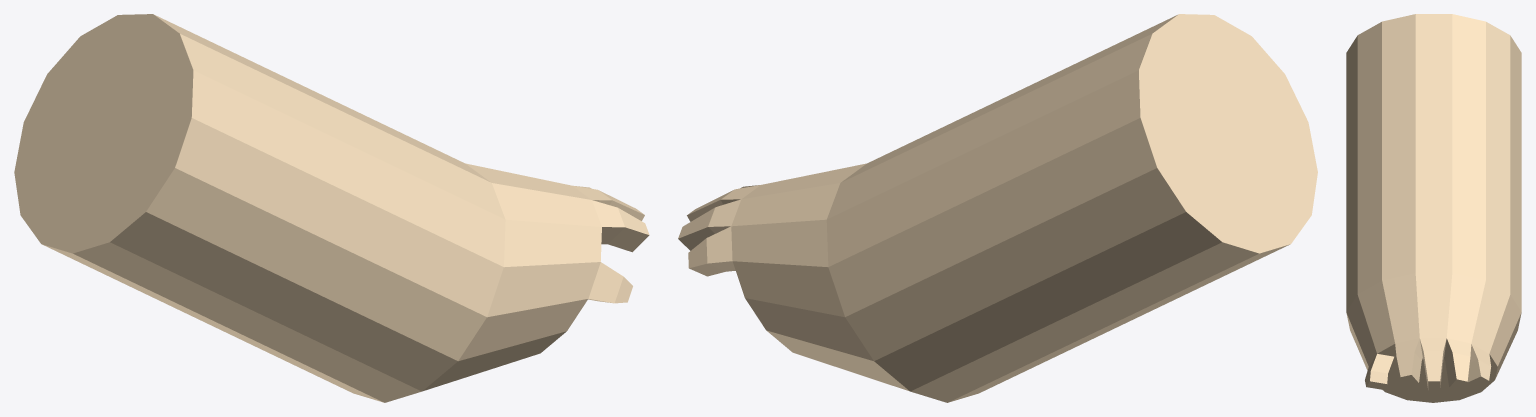
The model's file is dodorighthand.glb.
3 views of the same model, side by side, from view 1: azimuth 30°, elevation 25°; view 2: azimuth 150°, elevation 25°; view 3: azimuth 270°, elevation 25° (orthographic). The views are drawn at different scales.
Size of the model in its own units: 6.88 by 4.55 by 2.54.
